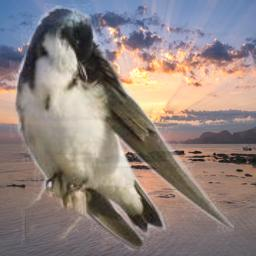Swallow: (10, 3, 234, 252)
